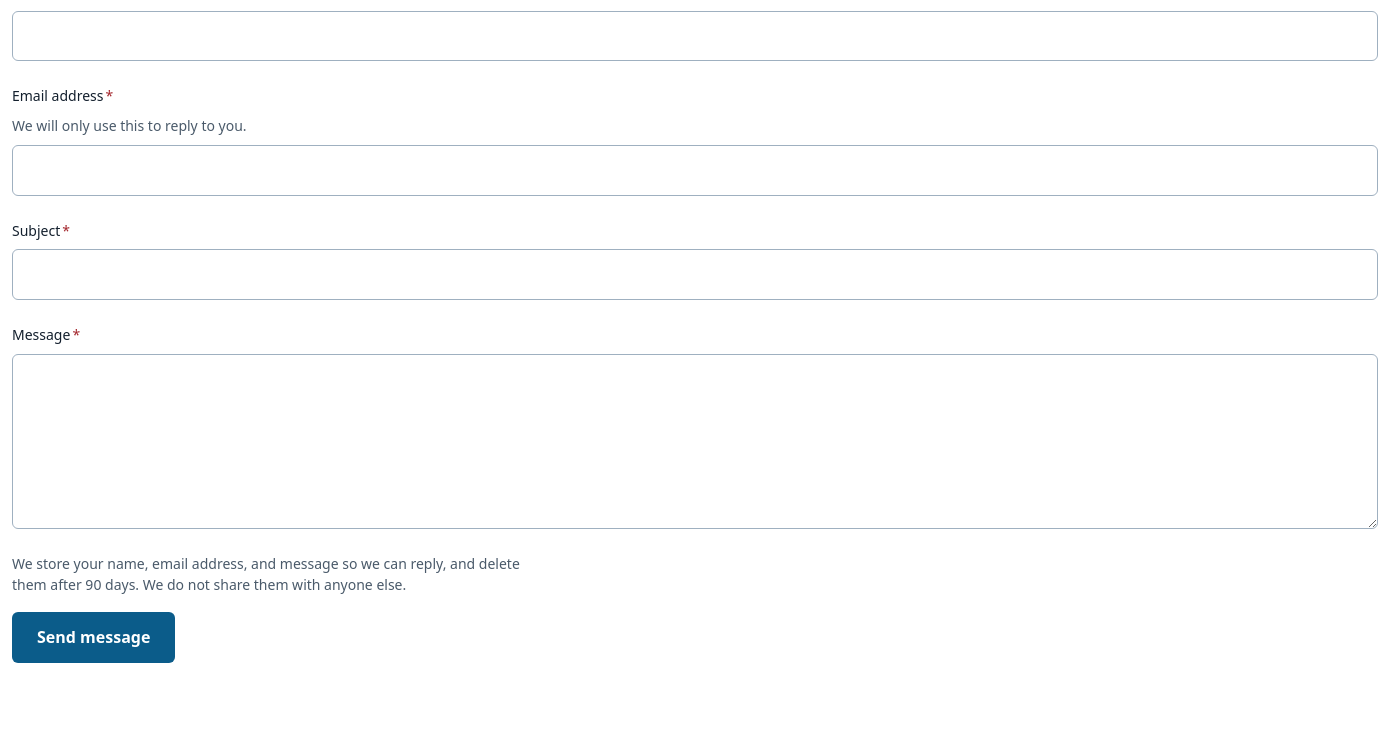
Test case: validation › keeps everything the visitor already typed
Type "We have twelve approval steps and no record of who signed what." into the text box labelled "Message*" at (695, 441), box x1=12 y1=354 x2=1378 y2=529
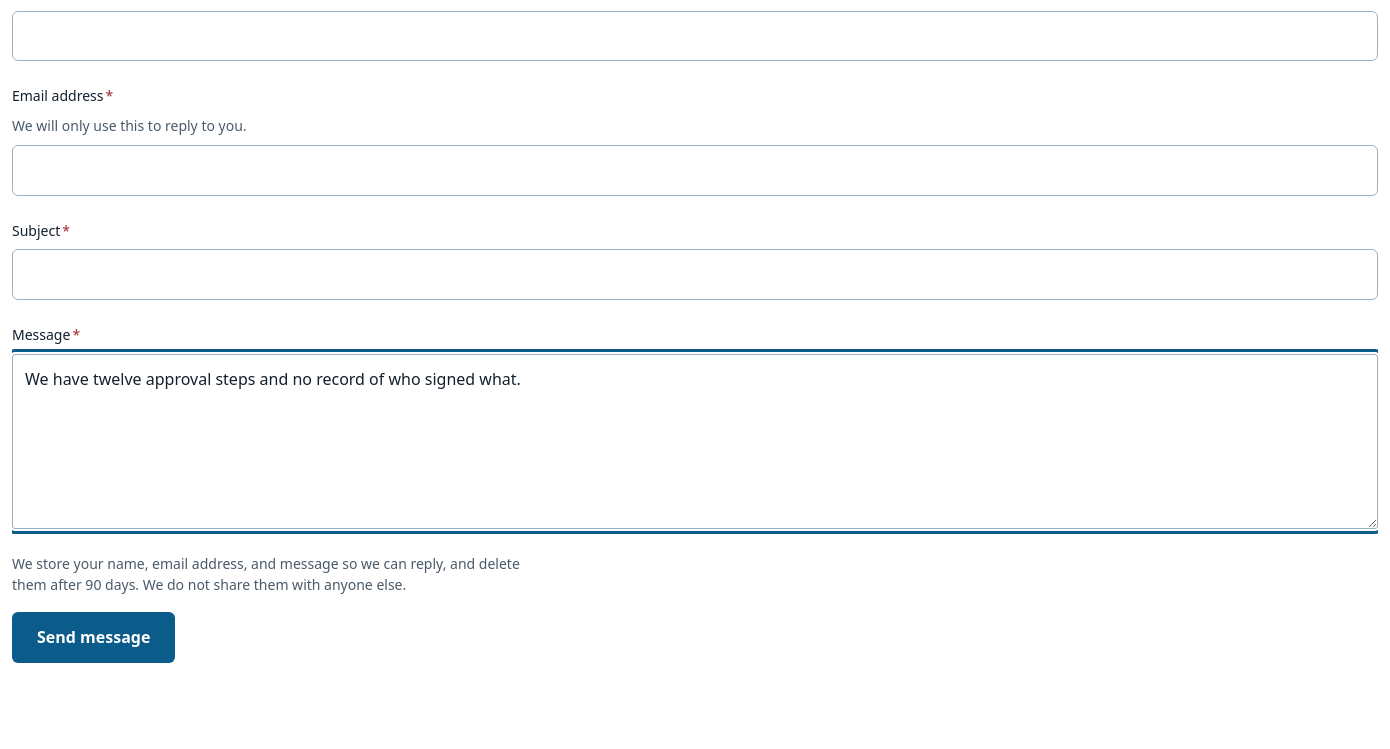
Click the button "Send message" at (94, 637), box x1=12 y1=612 x2=175 y2=663
(page scrolled)
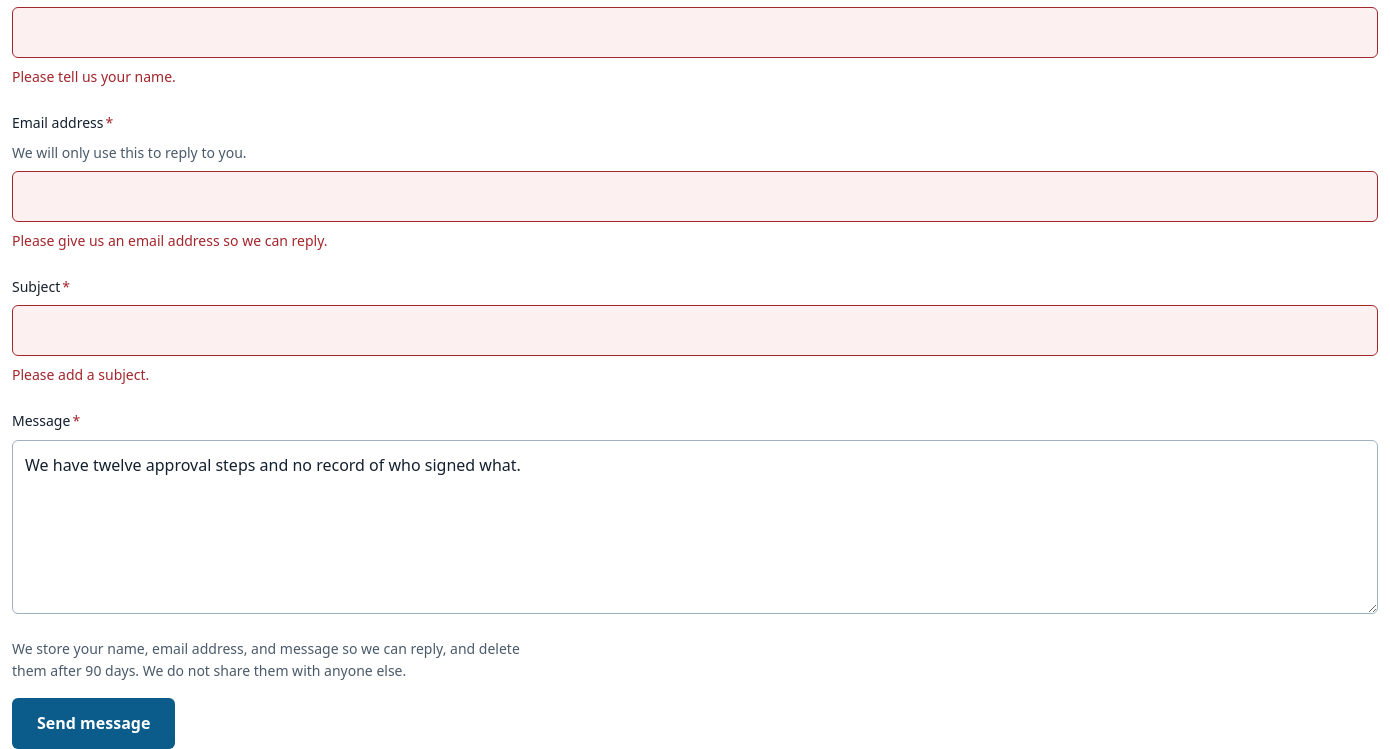
Check: the text "Please tell us your name." is shown, box x1=12 y1=67 x2=176 y2=86
